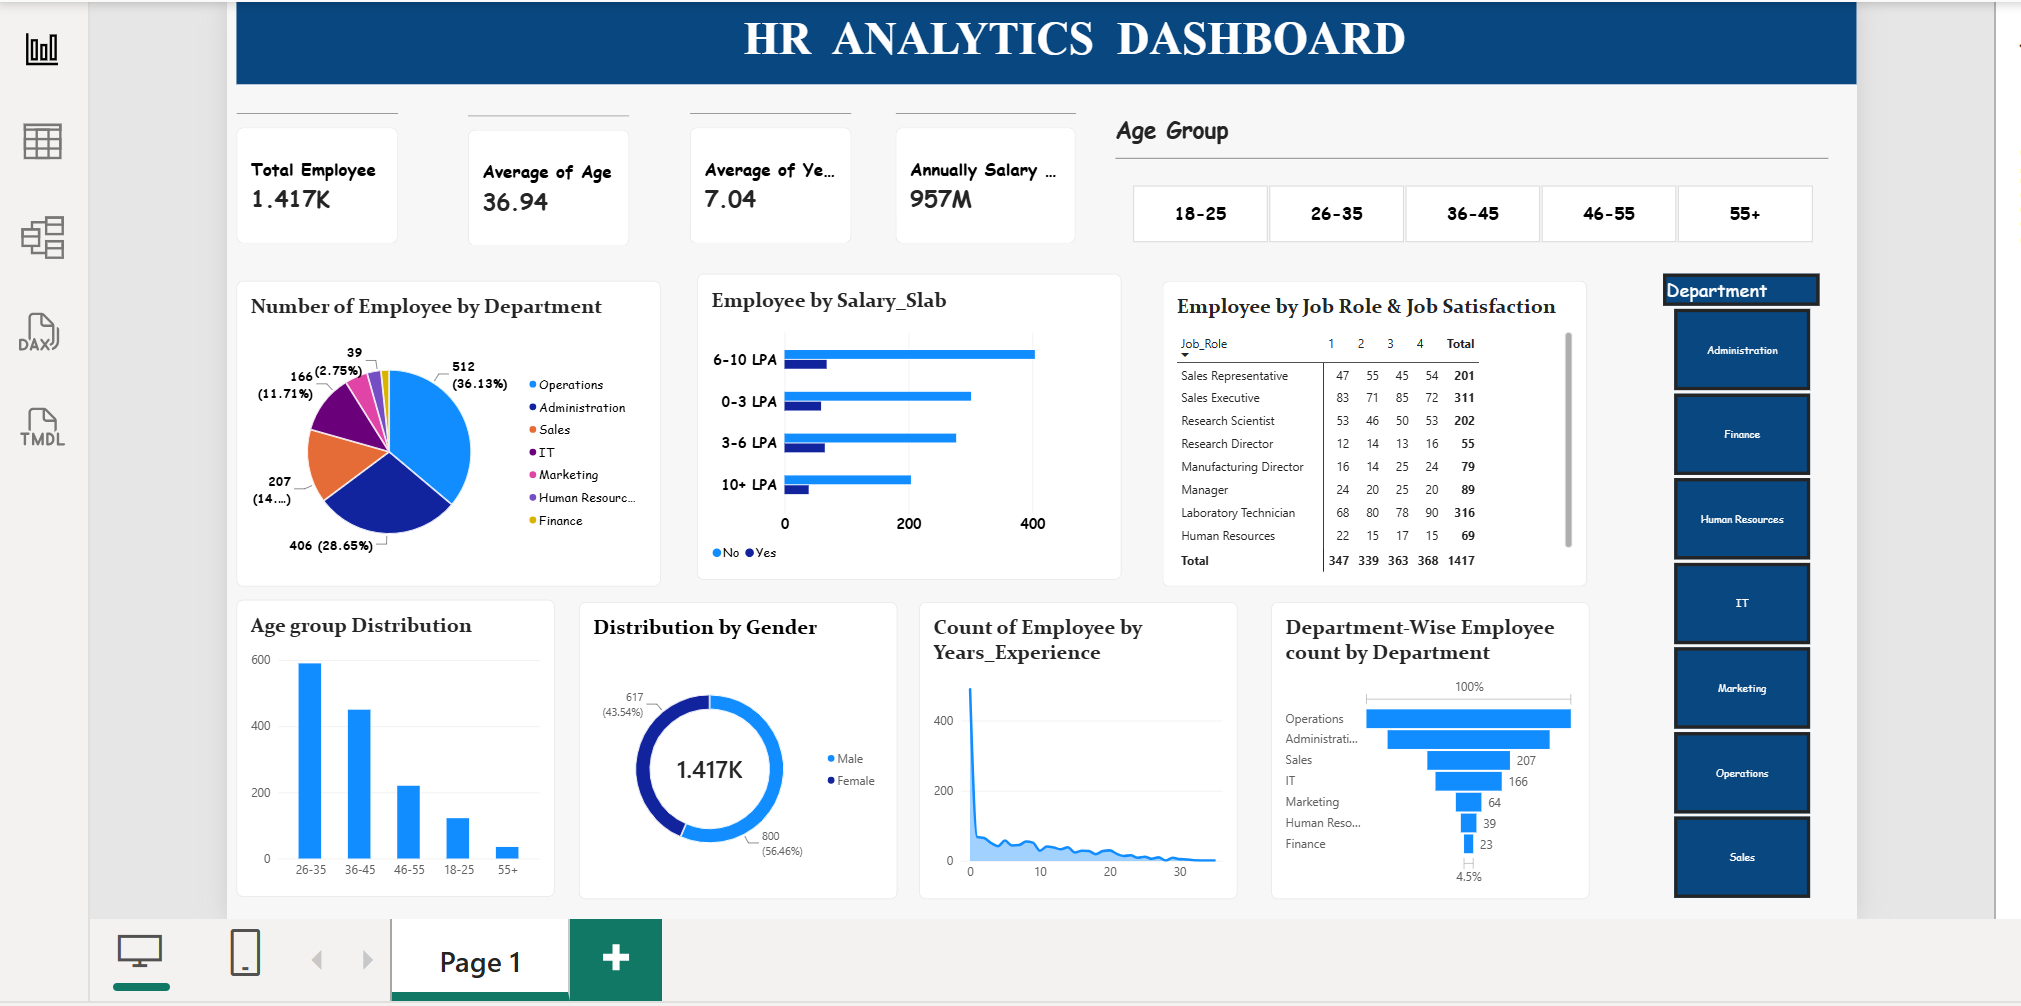

The dashboard page shown, as its layout file describes it:
{"tool":"powerbi","page":{"name":"Page 1","canvas":[1920,1080],"ordinal":0},"visuals":[{"type":"textbox","box":[11.2,0,1908.7,97.1],"z":0},{"type":"cardVisual","fields":{"Data":["CountNonNull(HR_Analytics_Dashboard_Dataset.Employee_ID)"]},"box":[11.2,130.7,190.5,153.1],"z":1000},{"type":"cardVisual","fields":{"Data":["Avg(HR_Analytics_Dashboard_Dataset.Age)"]},"box":[284.5,132.2,190,153],"z":2000},{"type":"cardVisual","fields":{"Data":["Avg(HR_Analytics_Dashboard_Dataset.Years_Experience)"]},"box":[545.3,130.7,190,153],"z":3000},{"type":"pieChart","fields":{"Category":["HR_Analytics_Dashboard_Dataset.Department"],"Y":["CountNonNull(HR_Analytics_Dashboard_Dataset.Employee_ID)"]},"box":[11.2,328.7,500,360],"z":4000},{"type":"clusteredBarChart","title":"Employee by Salary_Slab","fields":{"Category":["HR_Analytics_Dashboard_Dataset.Salary_Slab"],"Y":["CountNonNull(HR_Analytics_Dashboard_Dataset.Employee_ID)"],"Series":["HR_Analytics_Dashboard_Dataset.Attrition"]},"box":[552.8,321.2,500,360.6],"z":5000},{"type":"pivotTable","title":"Employee by Job Role & Job Satisfaction","fields":{"Rows":["HR_Analytics_Dashboard_Dataset.Job_Role"],"Columns":["HR_Analytics_Dashboard_Dataset.Job_Satisfaction"],"Values":["CountNonNull(HR_Analytics_Dashboard_Dataset.Employee_ID)"]},"box":[1101.9,328.7,500,360],"z":6000},{"type":"slicer","fields":{"Values":["HR_Analytics_Dashboard_Dataset.Department"]},"box":[1682.8,320.5,200.3,737.2],"z":7000},{"type":"clusteredColumnChart","title":"Age group Distribution ","fields":{"Category":["HR_Analytics_Dashboard_Dataset.Age_Group"],"Y":["CountNonNull(HR_Analytics_Dashboard_Dataset.Department)"]},"box":[12,705.2,375,350],"z":8000},{"type":"donutChart","title":"Distribution by Gender","fields":{"Category":["HR_Analytics_Dashboard_Dataset.Gender"],"Y":["CountNonNull(HR_Analytics_Dashboard_Dataset.Employee_ID)"]},"box":[414.6,705.9,375,350],"z":9000},{"type":"areaChart","title":"Count of Employee by Years_Experience","fields":{"Category":["HR_Analytics_Dashboard_Dataset.Years_Experience"],"Y":["CountNonNull(HR_Analytics_Dashboard_Dataset.Employee_ID)"]},"box":[814.3,705.9,375,350],"z":10000},{"type":"funnel","fields":{"Category":["HR_Analytics_Dashboard_Dataset.Department"],"Y":["CountNonNull(HR_Analytics_Dashboard_Dataset.Employee_ID)"]},"box":[1228.9,705.9,375,350],"z":11000},{"type":"cardVisual","fields":{"Data":["Sum(HR_Analytics_Dashboard_Dataset.Annual_Salary_INR)"]},"box":[788.1,130.7,212.9,153.1],"z":12000},{"type":"slicer","title":"Age Group","fields":{"Values":["HR_Analytics_Dashboard_Dataset.Age_Group"]},"box":[1045.9,130.7,840.4,153.1],"z":13000}]}

Visuals, with their boxes on the page's 1920x1080 design canvas (x1, y1, x2, y2). These are canvas units, not pixel positions in the 2021x1006 screenshot, which may show the page scaled, cropped or inside an application window:
textbox: 11:0:1920:97
cardVisual - CountNonNull(HR_Analytics_Dashboard_Dataset.Employee_ID): 11:131:202:284
cardVisual - Avg(HR_Analytics_Dashboard_Dataset.Age): 284:132:474:285
cardVisual - Avg(HR_Analytics_Dashboard_Dataset.Years_Experience): 545:131:735:284
pieChart - HR_Analytics_Dashboard_Dataset.Department x CountNonNull(HR_Analytics_Dashboard_Dataset.Employee_ID): 11:329:511:689
"Employee by Salary_Slab" clusteredBarChart: 553:321:1053:682
"Employee by Job Role & Job Satisfaction" pivotTable: 1102:329:1602:689
slicer - HR_Analytics_Dashboard_Dataset.Department: 1683:320:1883:1058
"Age group Distribution " clusteredColumnChart: 12:705:387:1055
"Distribution by Gender" donutChart: 415:706:790:1056
"Count of Employee by Years_Experience" areaChart: 814:706:1189:1056
funnel - HR_Analytics_Dashboard_Dataset.Department x CountNonNull(HR_Analytics_Dashboard_Dataset.Employee_ID): 1229:706:1604:1056
cardVisual - Sum(HR_Analytics_Dashboard_Dataset.Annual_Salary_INR): 788:131:1001:284
"Age Group" slicer: 1046:131:1886:284
